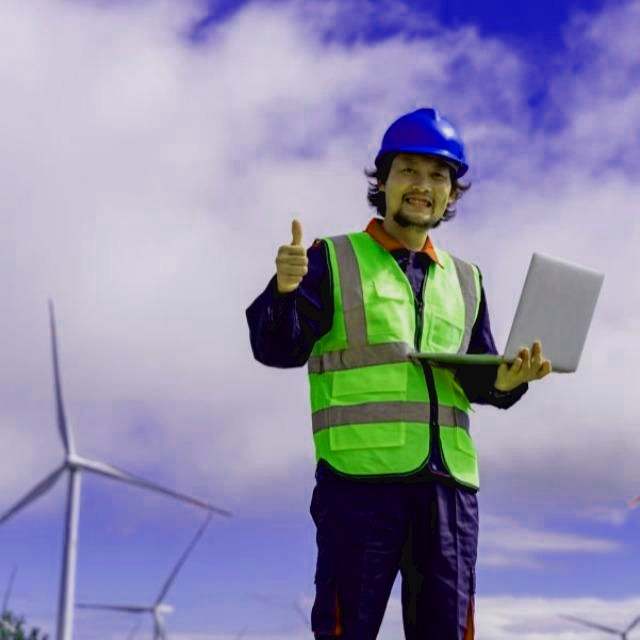Con_Casco: (377, 107, 471, 231)
Con_Chaleco: (313, 233, 490, 493)
